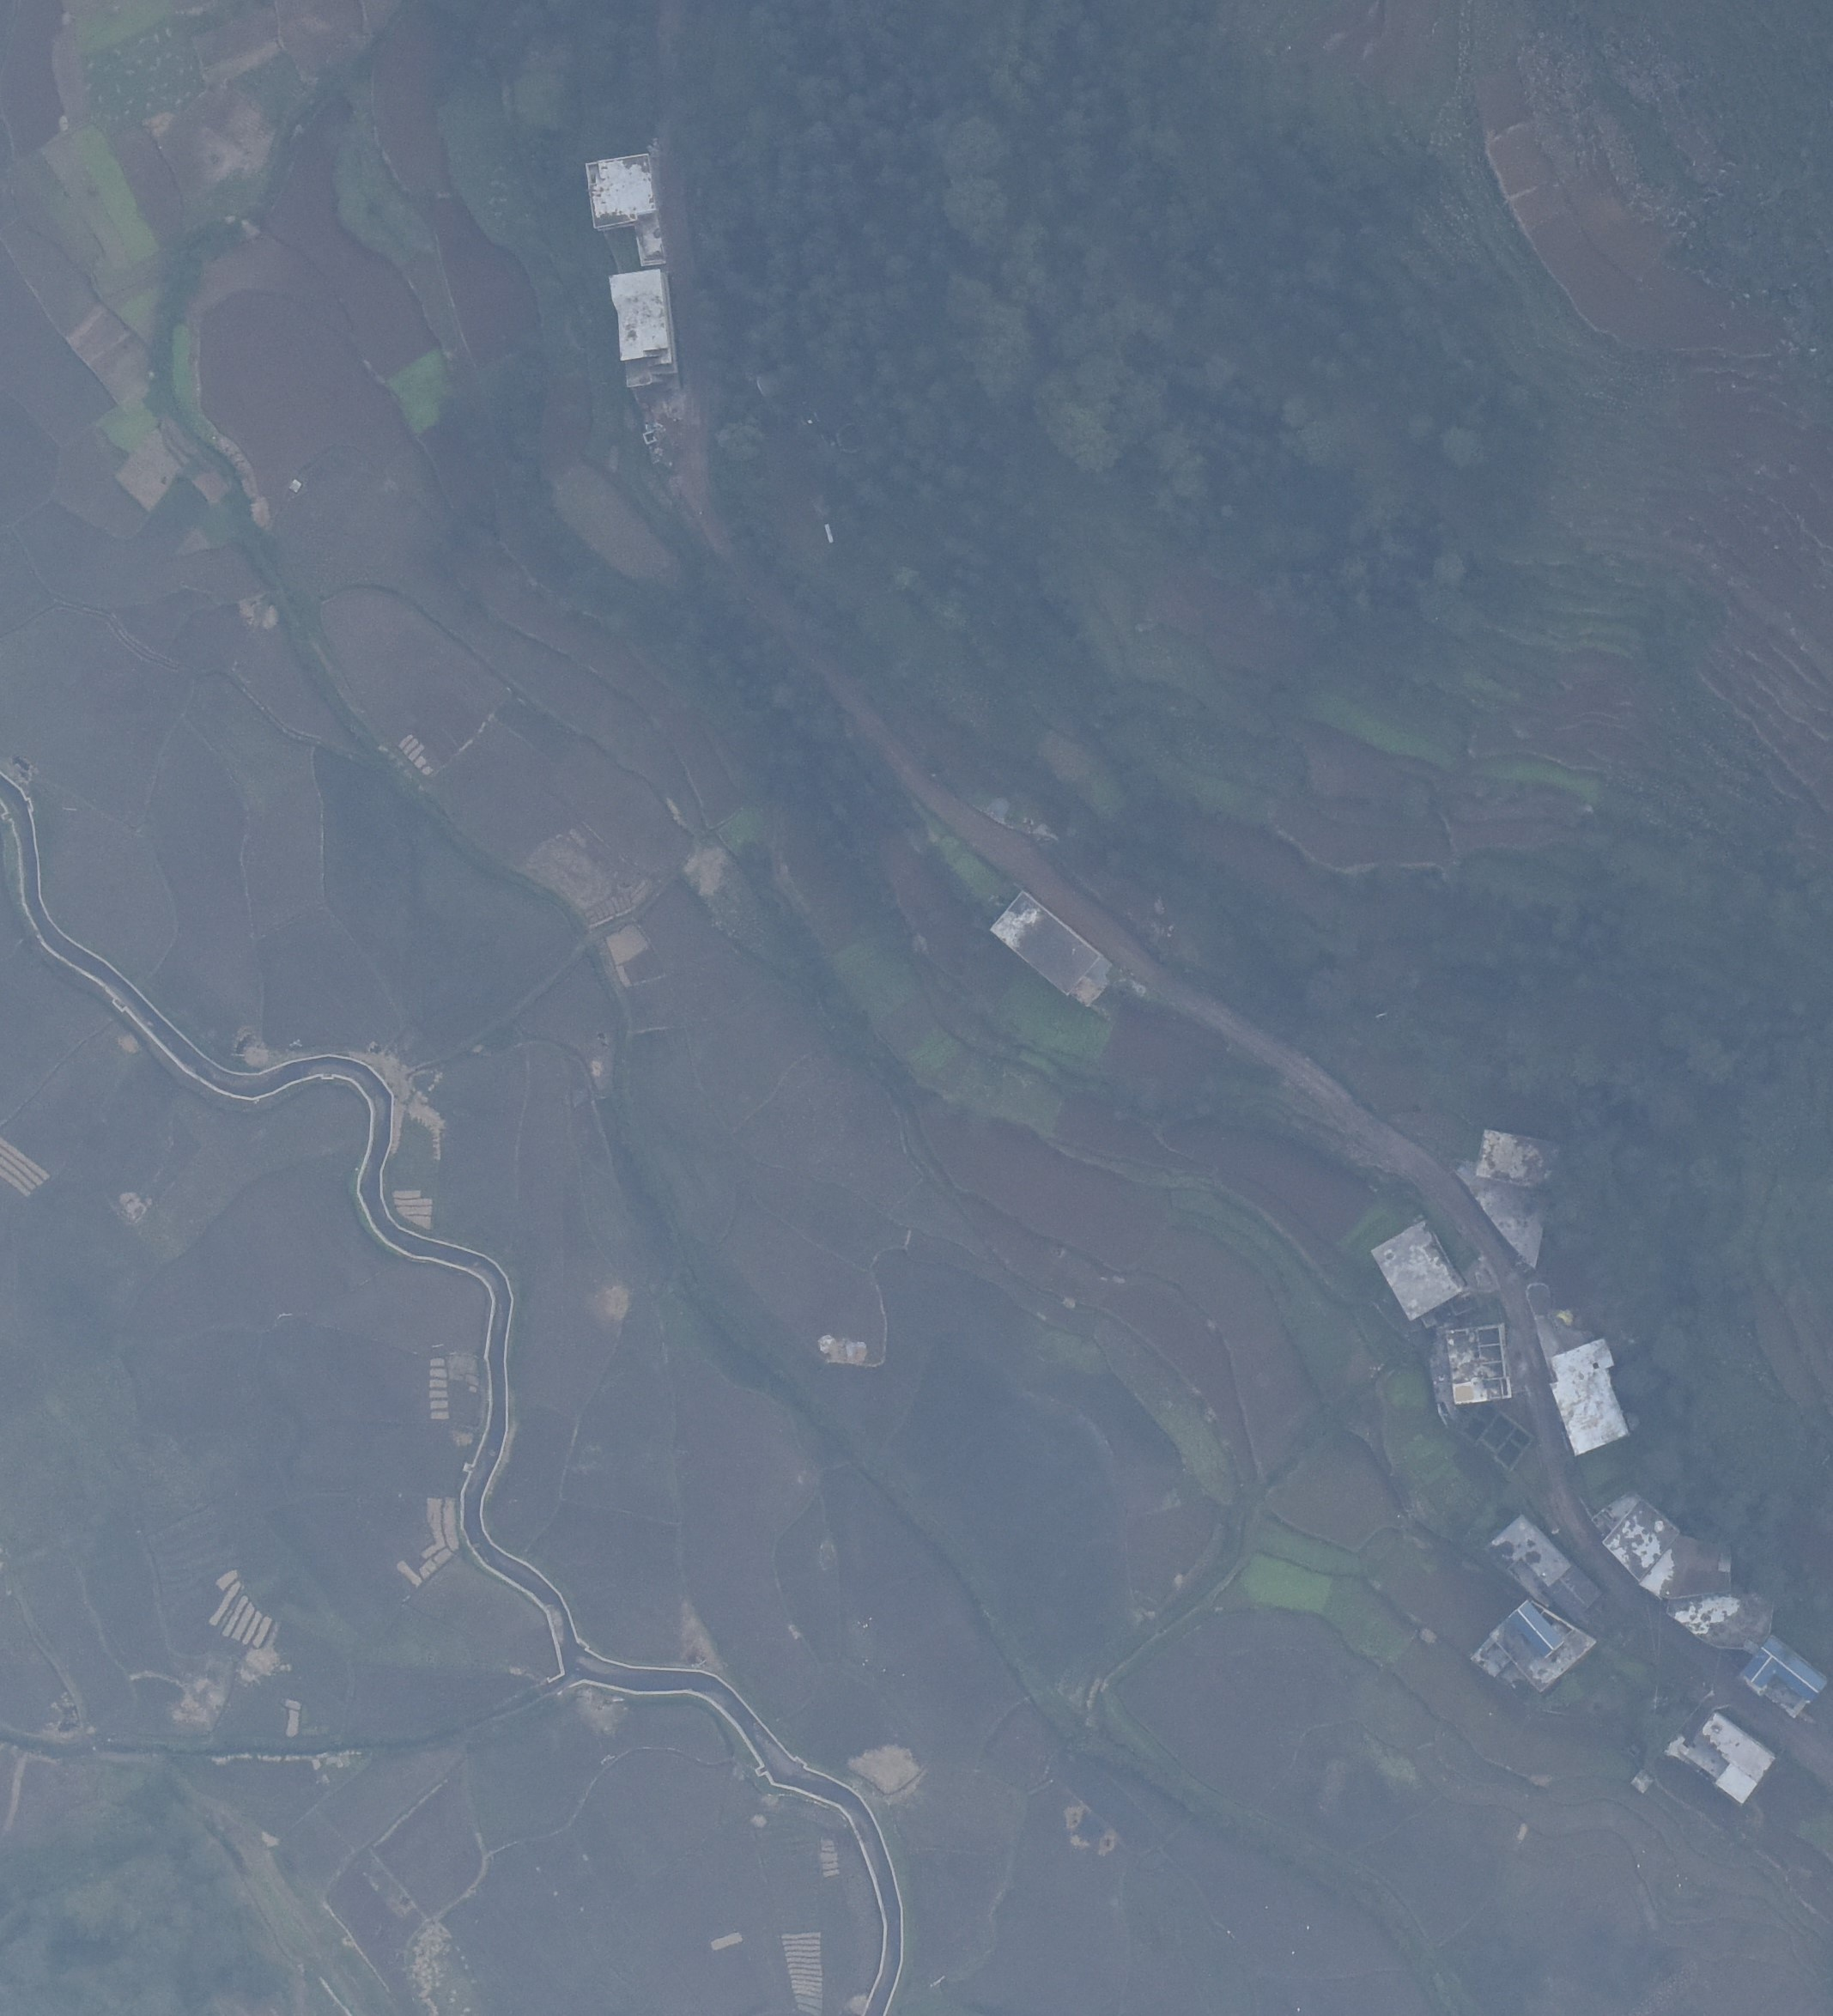building: (985, 887, 1113, 1015), (1540, 1329, 1645, 1479), (1680, 1700, 1793, 1816), (574, 140, 674, 269), (1645, 1586, 1786, 1663), (1487, 1596, 1599, 1693), (1364, 1217, 1466, 1322), (604, 265, 686, 392), (1466, 1117, 1573, 1213), (1736, 1630, 1828, 1723), (1592, 1493, 1680, 1589), (1480, 1516, 1578, 1593), (1440, 1322, 1520, 1412), (1640, 1533, 1728, 1612), (1545, 1565, 1610, 1624)
